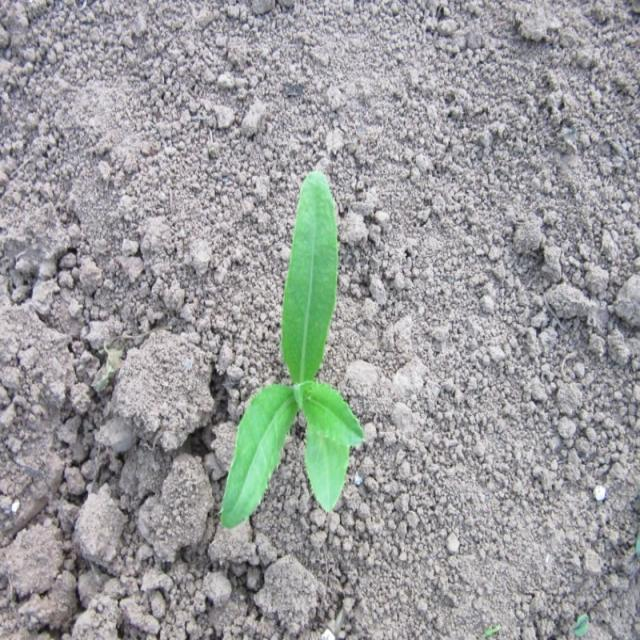cs: (216, 164, 370, 529)
